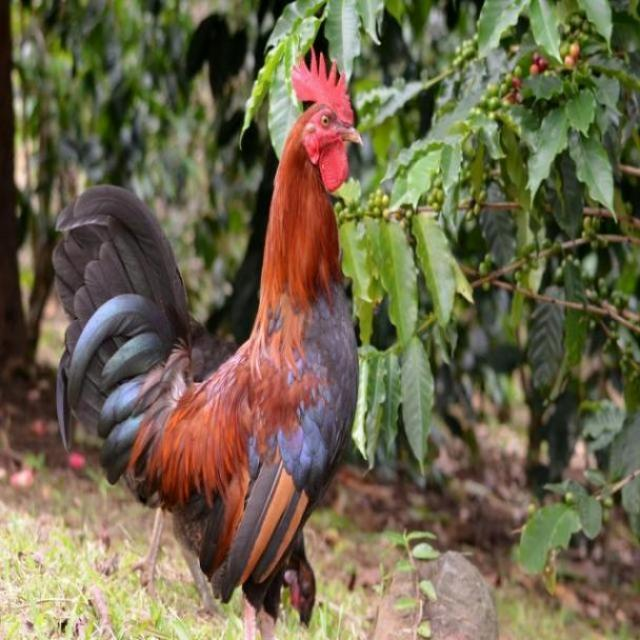Chicken: (65, 56, 382, 640)
